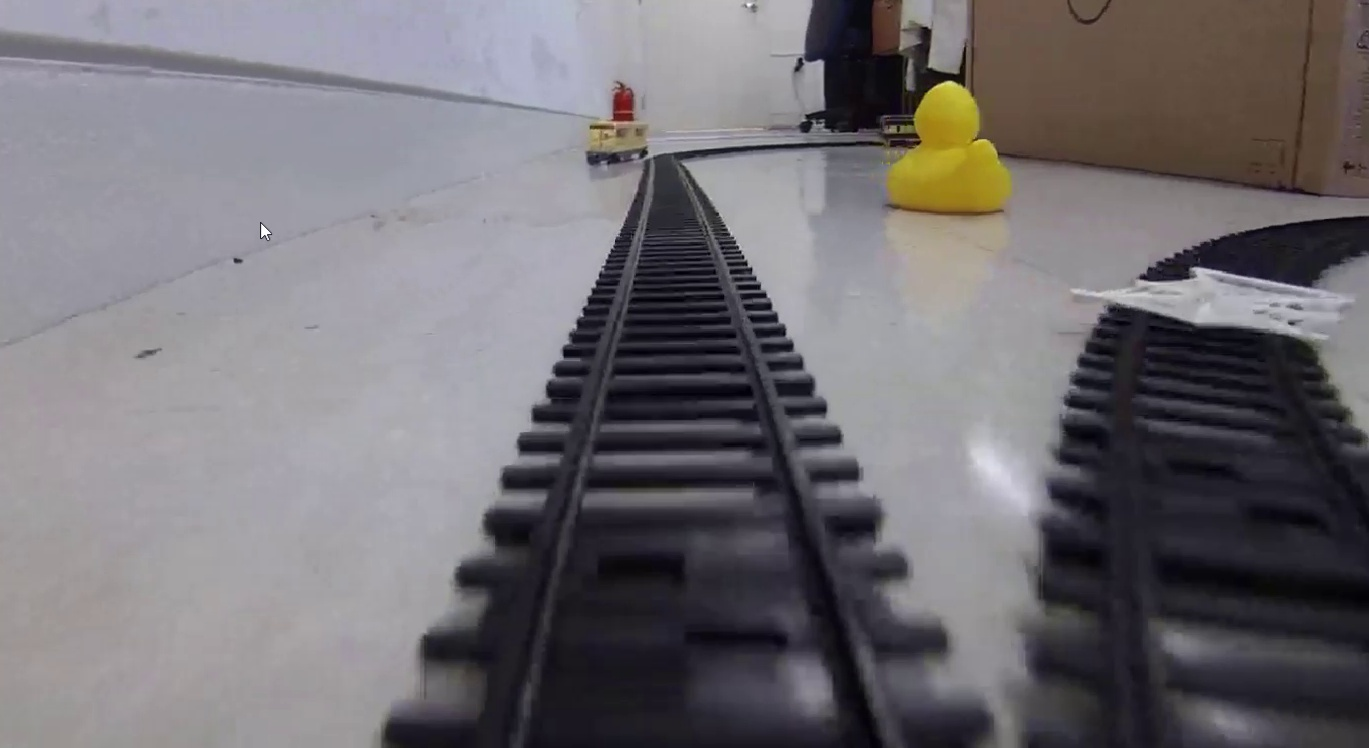web: (1072, 268, 1354, 340)
